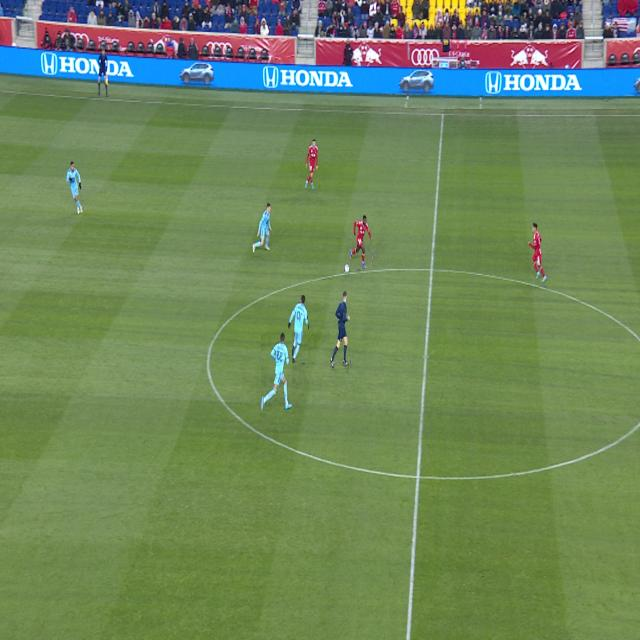football: (344, 265, 350, 273)
player: (261, 333, 292, 411), (289, 295, 308, 363), (351, 216, 372, 269), (528, 222, 546, 282), (253, 202, 272, 253), (66, 161, 82, 214), (305, 139, 319, 190)
referee: (331, 292, 350, 369)
